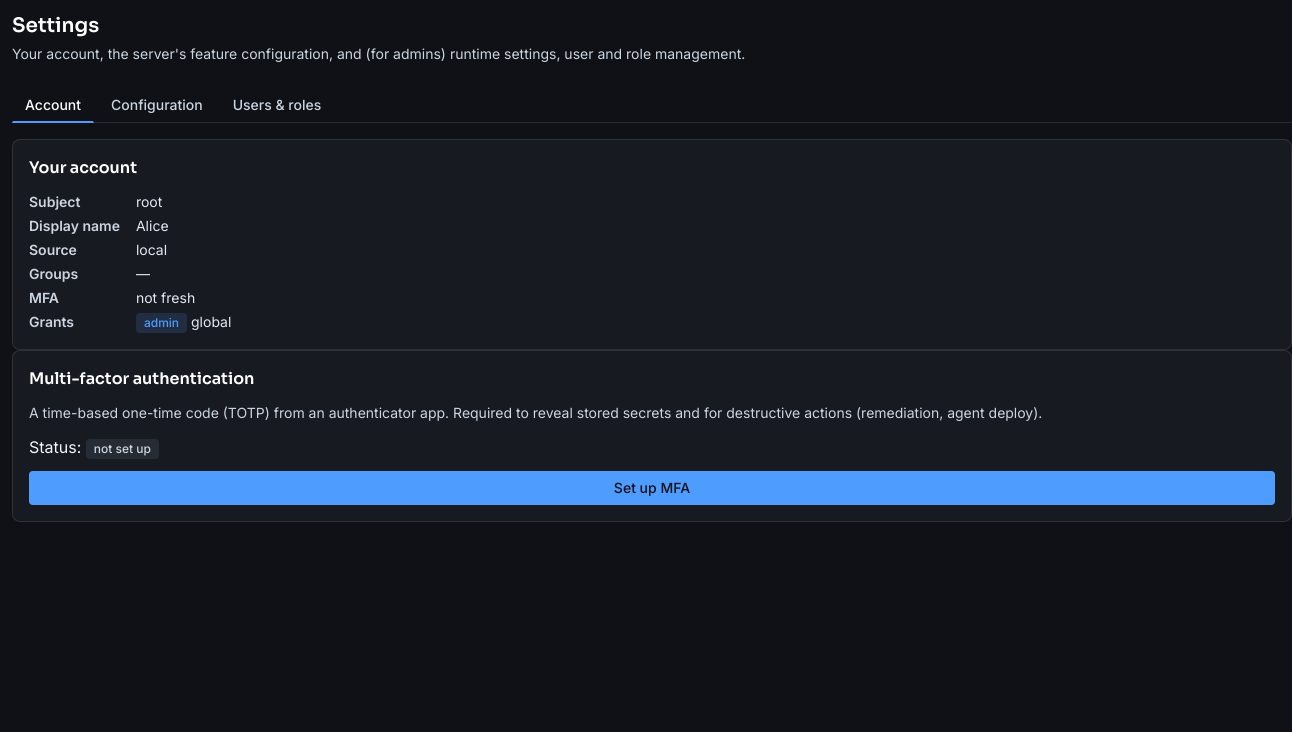
Test case: Settings page › renders the inline error when a grant is rejected (422)
Click the tab "Users & roles" at (277, 106), box [220,88,334,123]
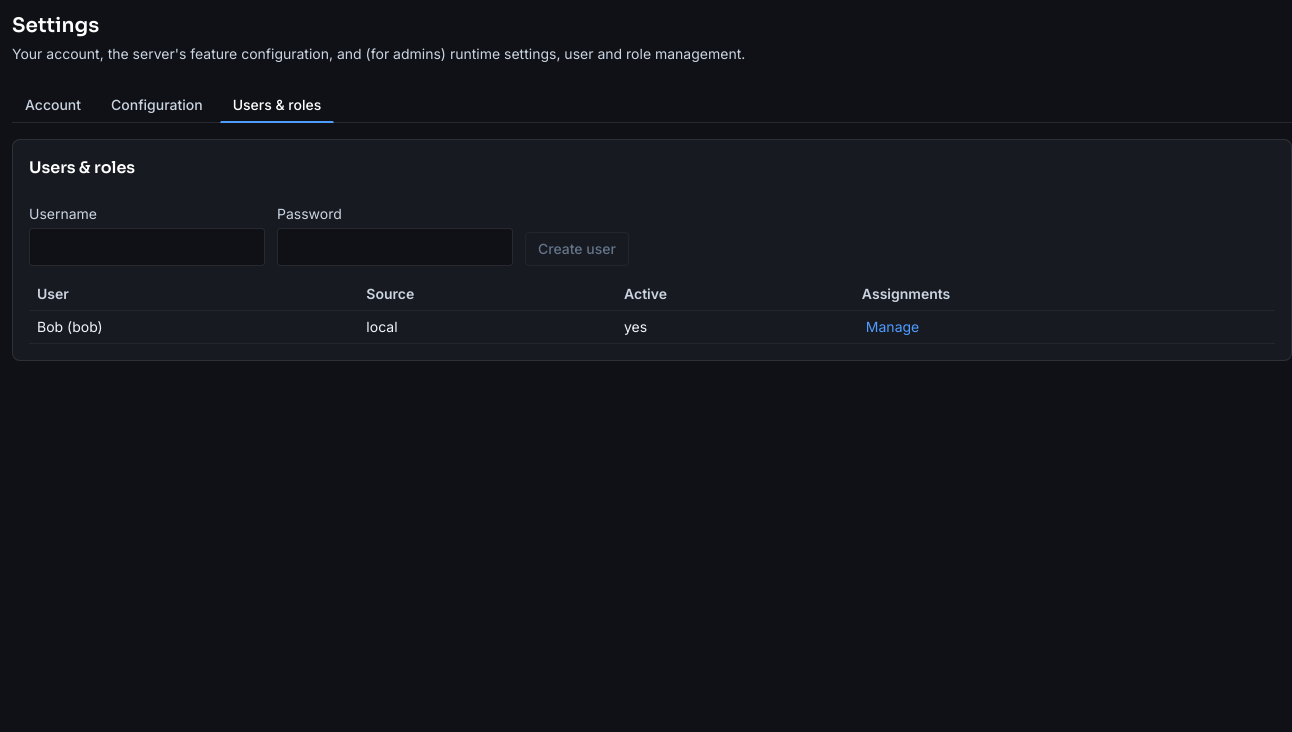
Click the button "Manage" at (893, 327), box [862,317,923,337]
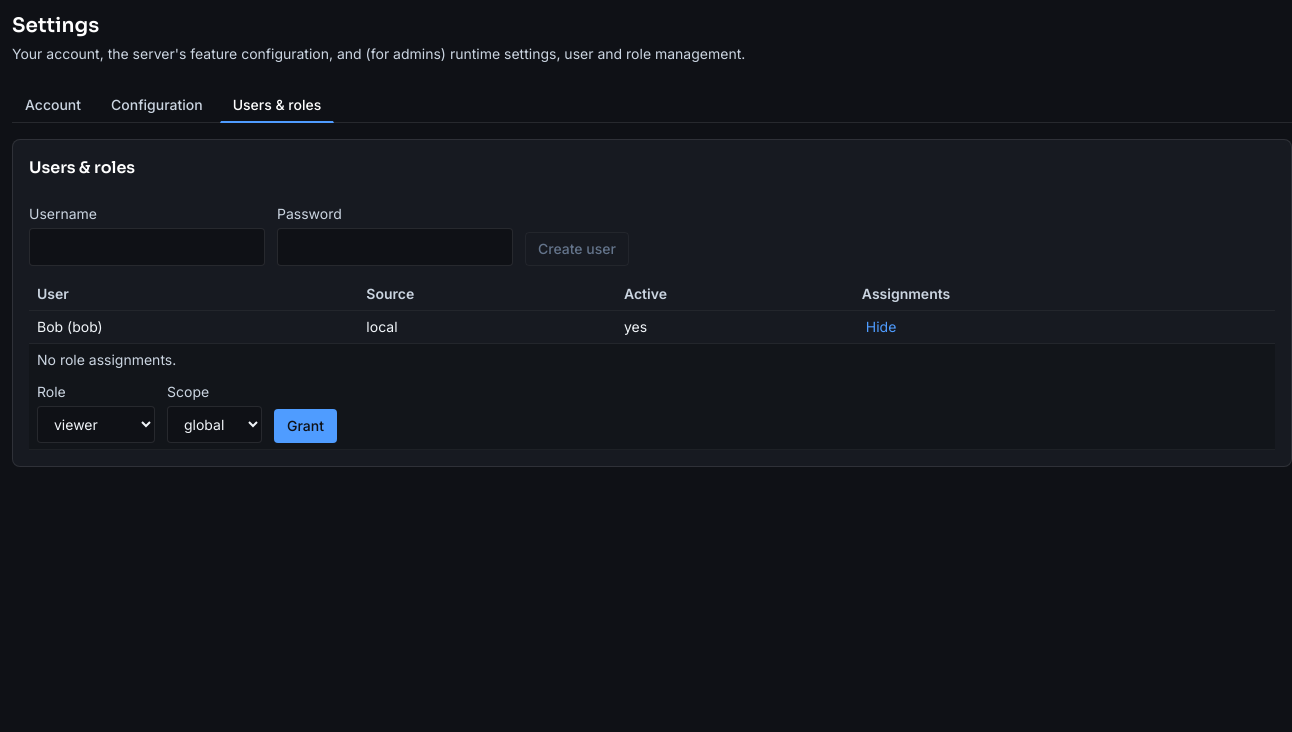
Click the button "Grant" at (306, 426), box [274,409,337,443]
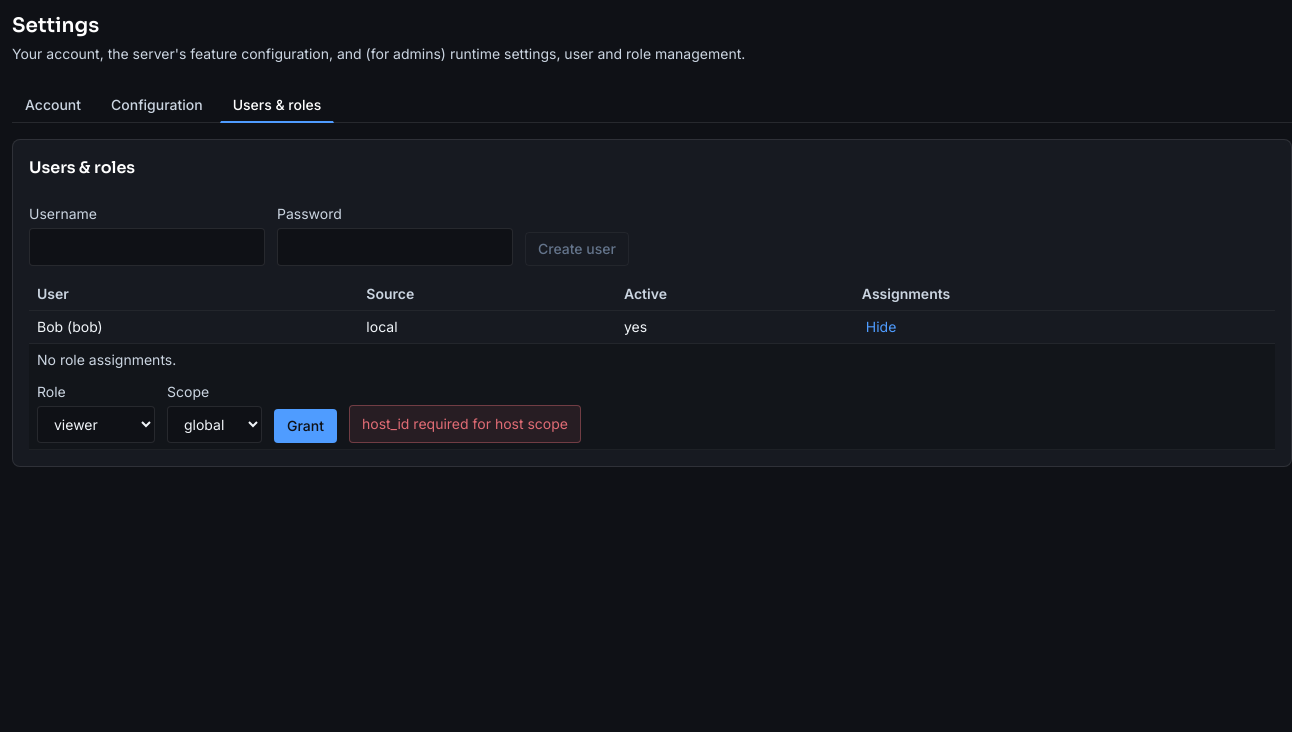
Expected: the text "host_id required for host scope" is shown, [349,405,581,443]
